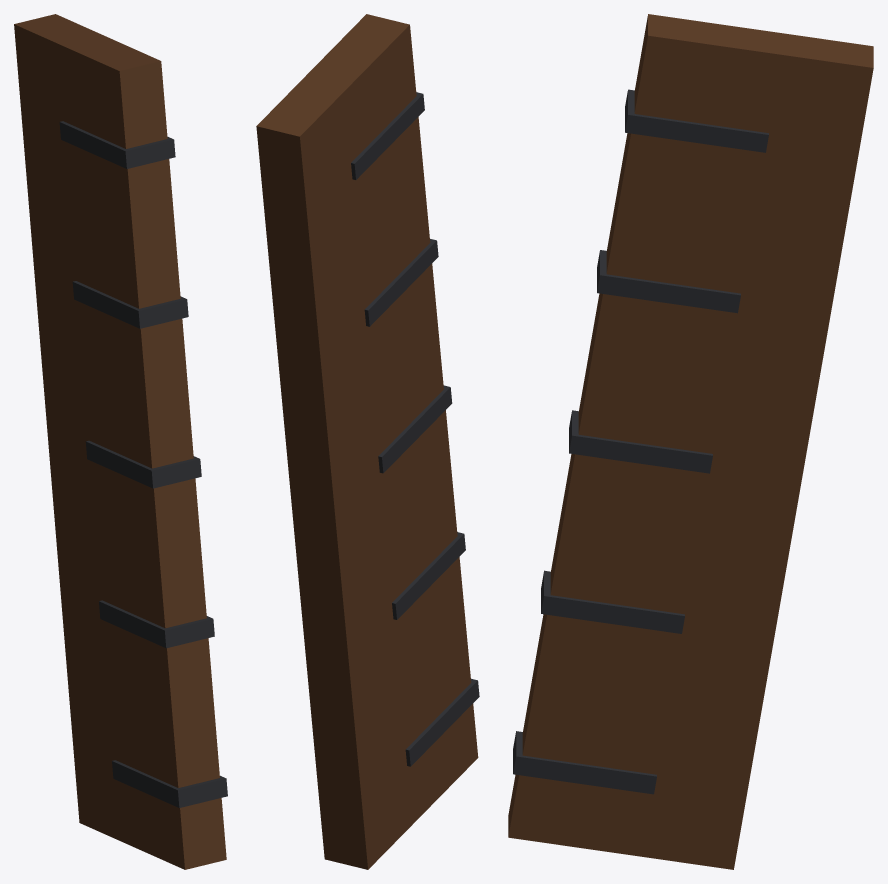
The model's file is amelioration--safran.glb.
The picture shows the model from 3 angles, left to right: view 1: azimuth 30°, elevation 25°; view 2: azimuth 150°, elevation 25°; view 3: azimuth 270°, elevation 25°; orthographic projection. The views are drawn at different scales.
Visible parts, largest first — view 1: safran; view 2: safran; view 3: safran.
Part boxes in pixels (left/top/right/bottom): safran: left=14, top=14, right=227, bottom=869; safran: left=256, top=14, right=479, bottom=869; safran: left=508, top=14, right=873, bottom=869.
Bounding box in the file's own units: 0.42 × 6.45 × 2.56.
